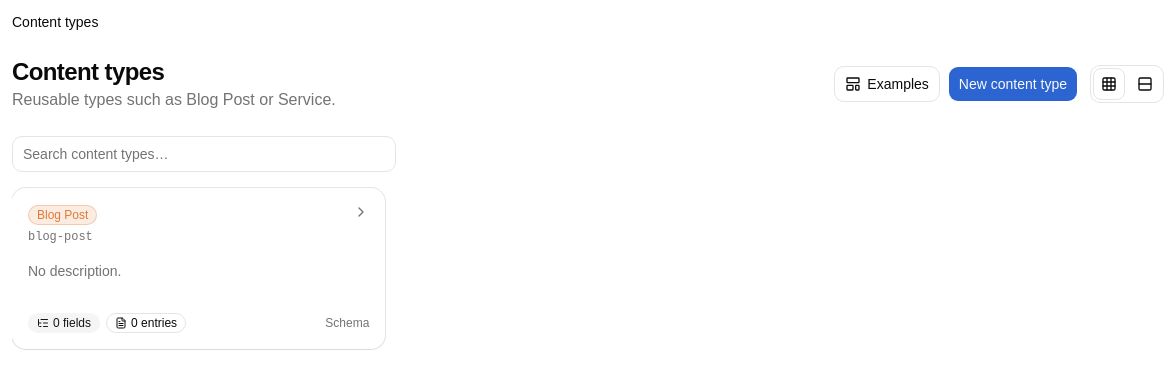
it: ContentTypesPage › switches to the table view and back
Expected: the text "Blog Post" is shown, [28, 205, 97, 225]
Step 1. Click the button named "Table view" → [1145, 84], box [1129, 68, 1161, 100]
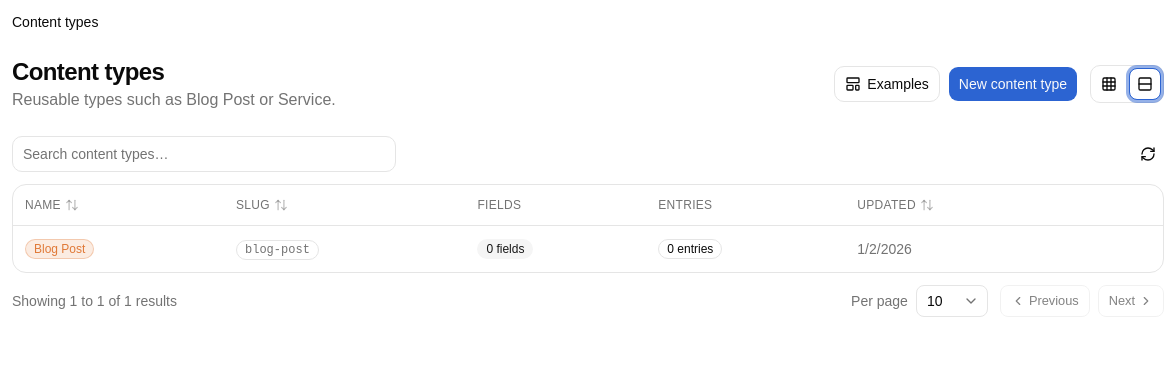
Now the table is shown, box [13, 185, 1163, 272]
